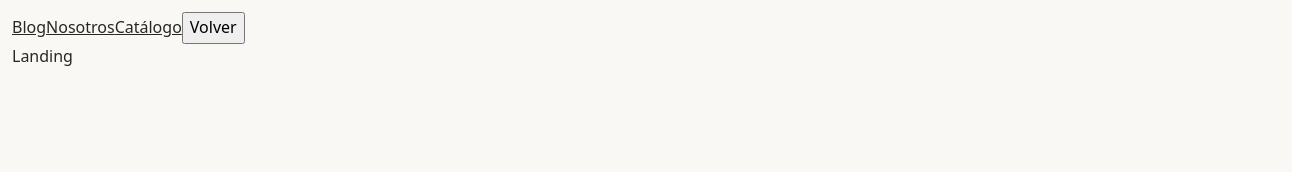
Test: al entrar a otra página la muestra desde arriba
Click the link "Blog": (29, 27) [12,16,46,38]
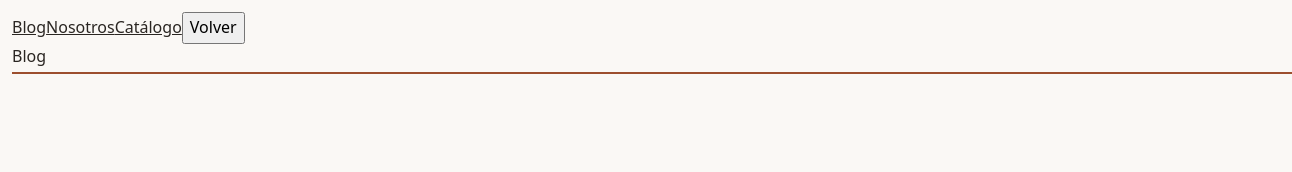
Result: the text "Blog" is shown at [12,45,46,67]
